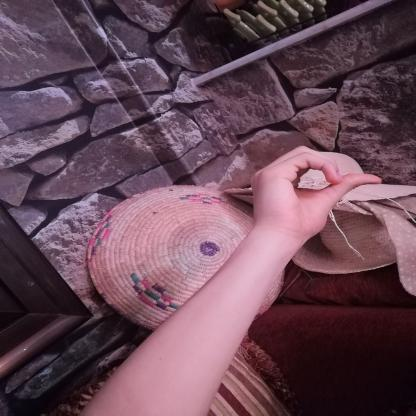WAW: (236, 137, 395, 259)
